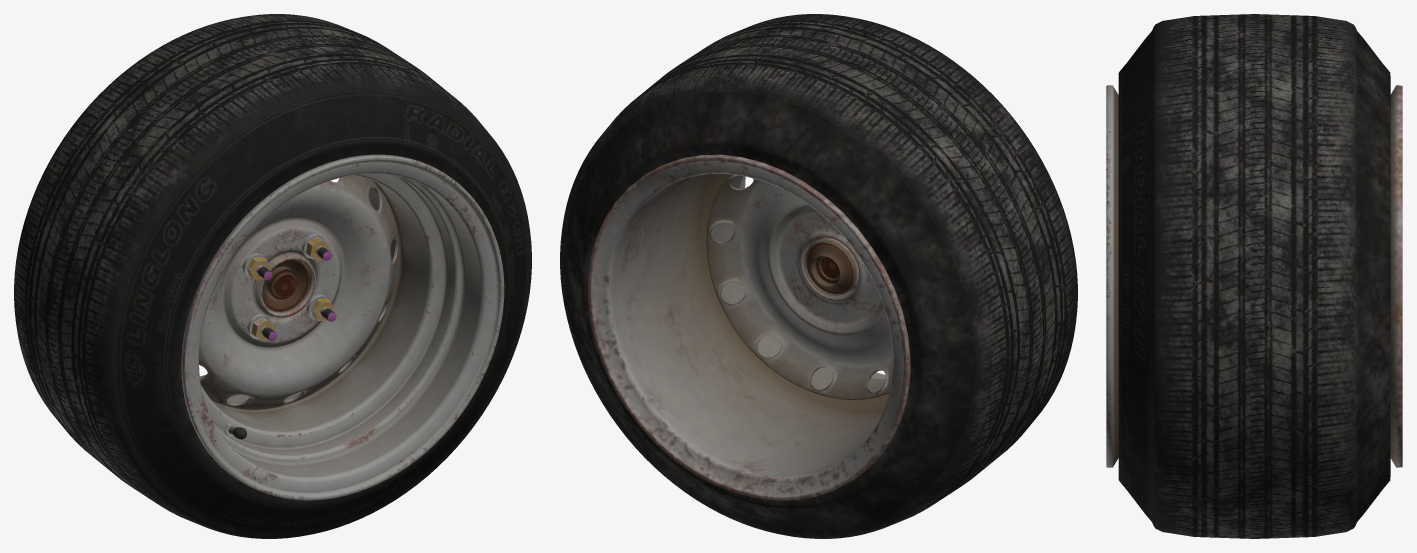
Rendered from stance-wheel-r13x10-6c8a9d.glb.
3 renders of one model, left to right at view 1: azimuth 30°, elevation 25°; view 2: azimuth 150°, elevation 25°; view 3: azimuth 270°, elevation 25°, orthographic. The views are drawn at different scales.
Parts seen in each view (by area): view 1: Wheel_195_50R13x10__Wheel_195_50R13x10__0; view 2: Wheel_195_50R13x10__Wheel_195_50R13x10__0; view 3: Wheel_195_50R13x10__Wheel_195_50R13x10__0.
Boxes of the visible parts, x1,y1,x2,y2 form: Wheel_195_50R13x10__Wheel_195_50R13x10__0: [14, 14, 531, 538]; Wheel_195_50R13x10__Wheel_195_50R13x10__0: [560, 14, 1077, 538]; Wheel_195_50R13x10__Wheel_195_50R13x10__0: [1106, 14, 1402, 538].
Size of the model in its own units: 0.512 by 0.512 by 0.2892.
Materials: 1 (1 with a texture image).
